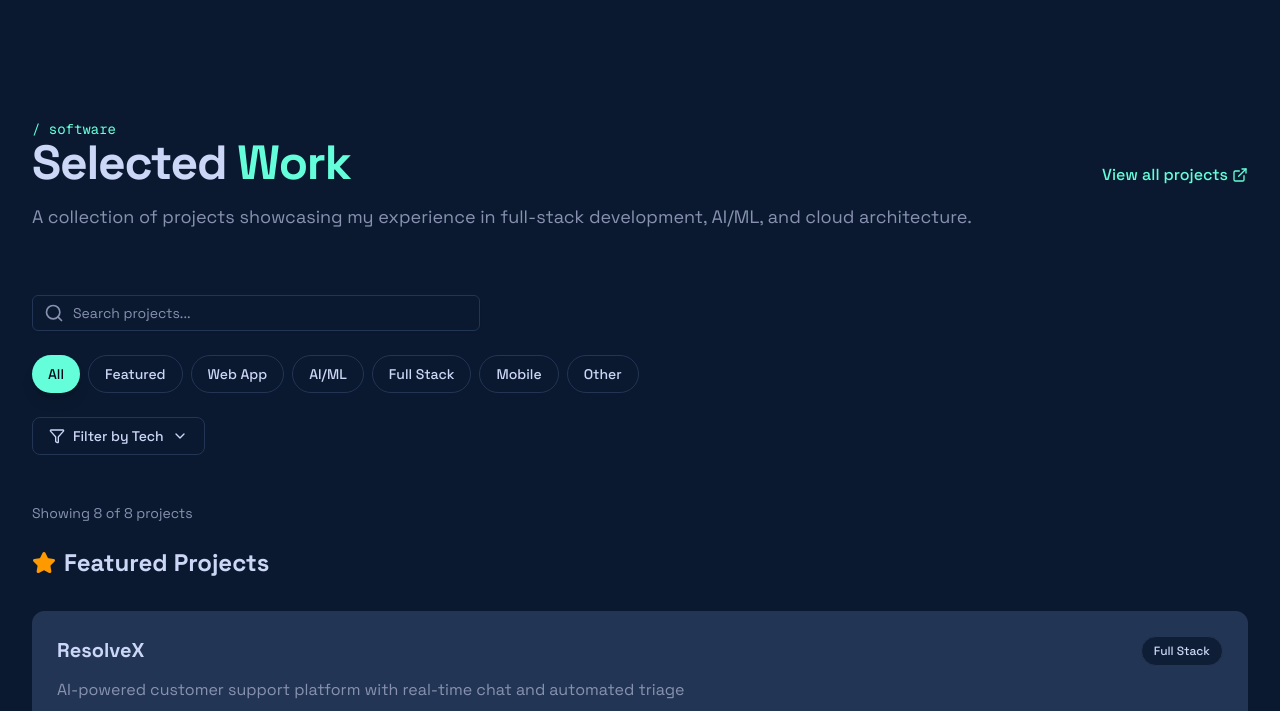
Projects Section › filters projects by search query
The image size is (1280, 711).
Type "RAG" into the search field with placeholder "Search projects...". click: (256, 313)
box: top-left (32, 295), bottom-right (480, 331)
(page scrolled)
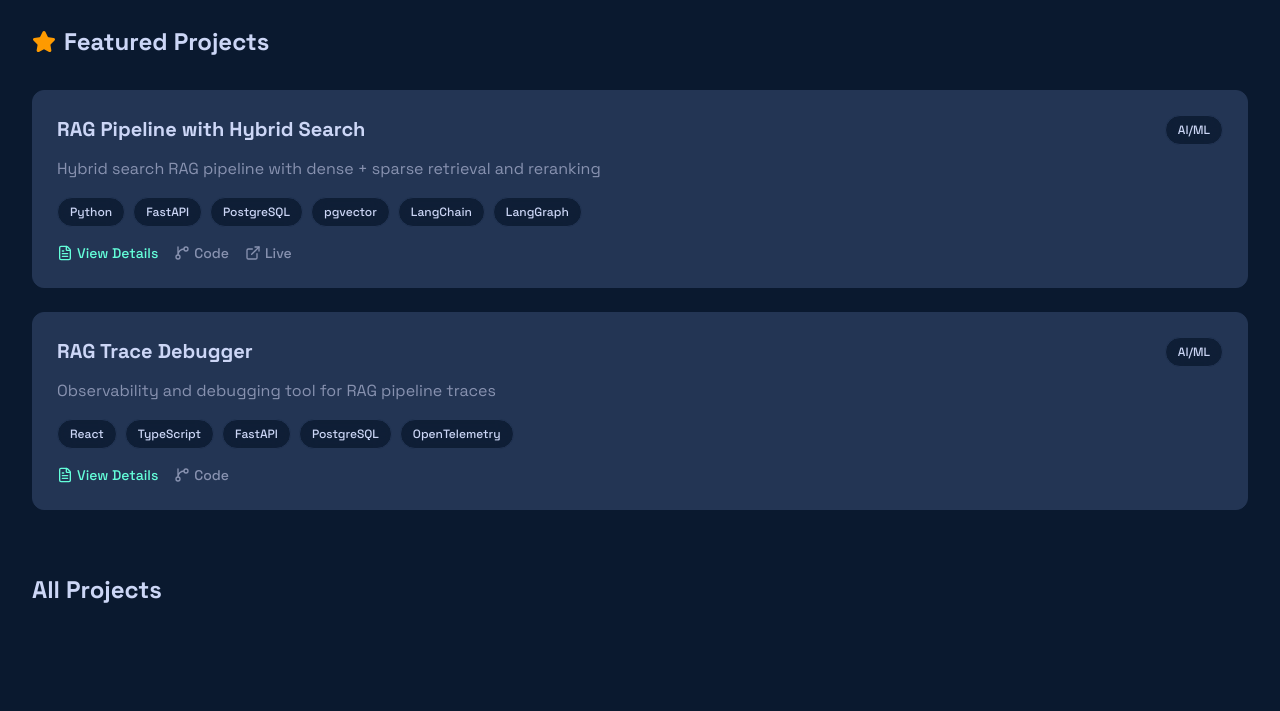
Check: the heading "RAG Pipeline with Hybrid Search" is shown, box top-left (57, 116), bottom-right (365, 142)
Check: no links "ResolveX" are shown
